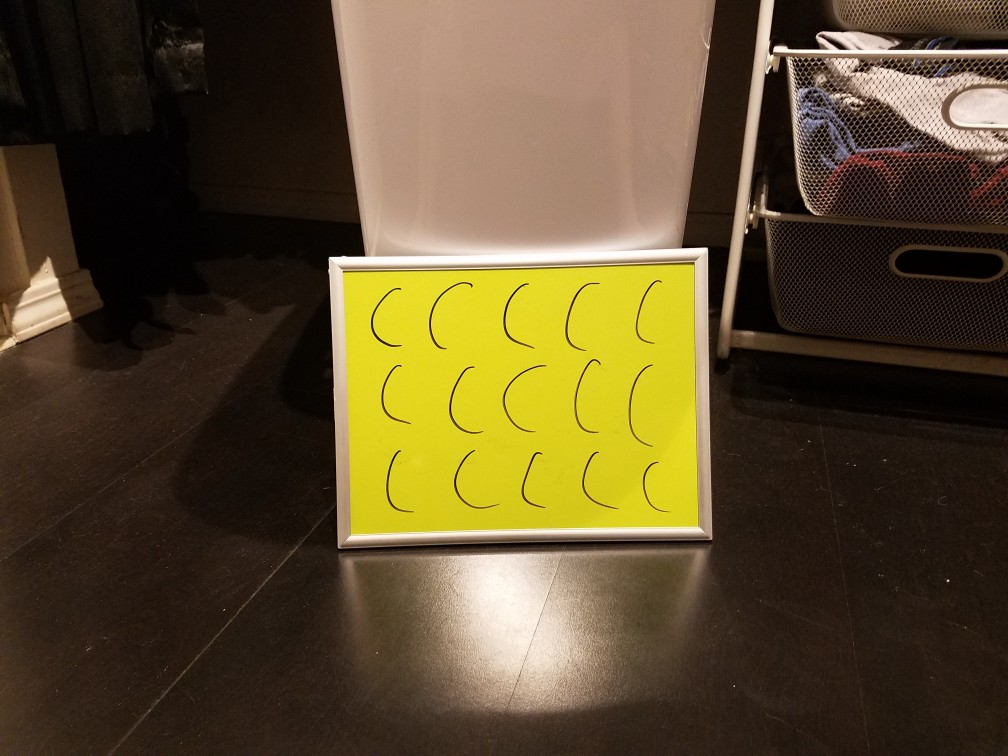(: (493, 274, 548, 354), (626, 354, 670, 453), (423, 279, 475, 358), (442, 448, 505, 513), (499, 360, 547, 439), (570, 358, 613, 441), (364, 277, 409, 356), (445, 364, 489, 444), (564, 277, 603, 357), (373, 363, 416, 432), (630, 276, 669, 351), (579, 445, 622, 512), (520, 447, 554, 515), (385, 445, 415, 518), (638, 457, 674, 516)
